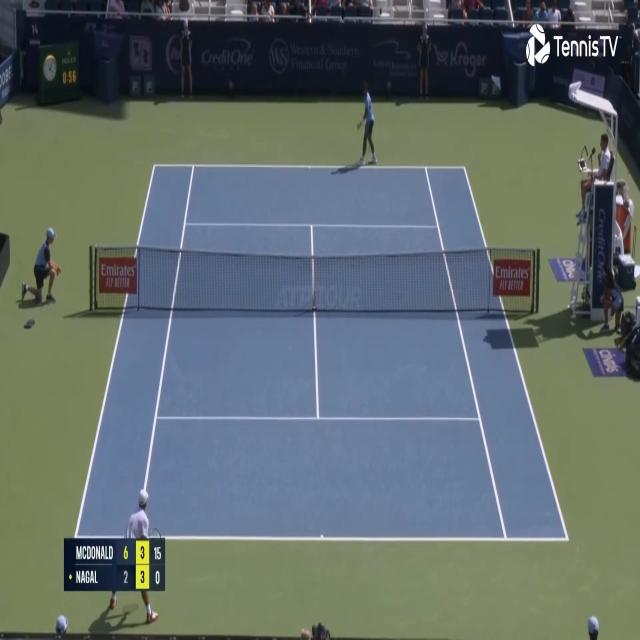tennis-player: (110, 485, 162, 628), (355, 80, 379, 168)
